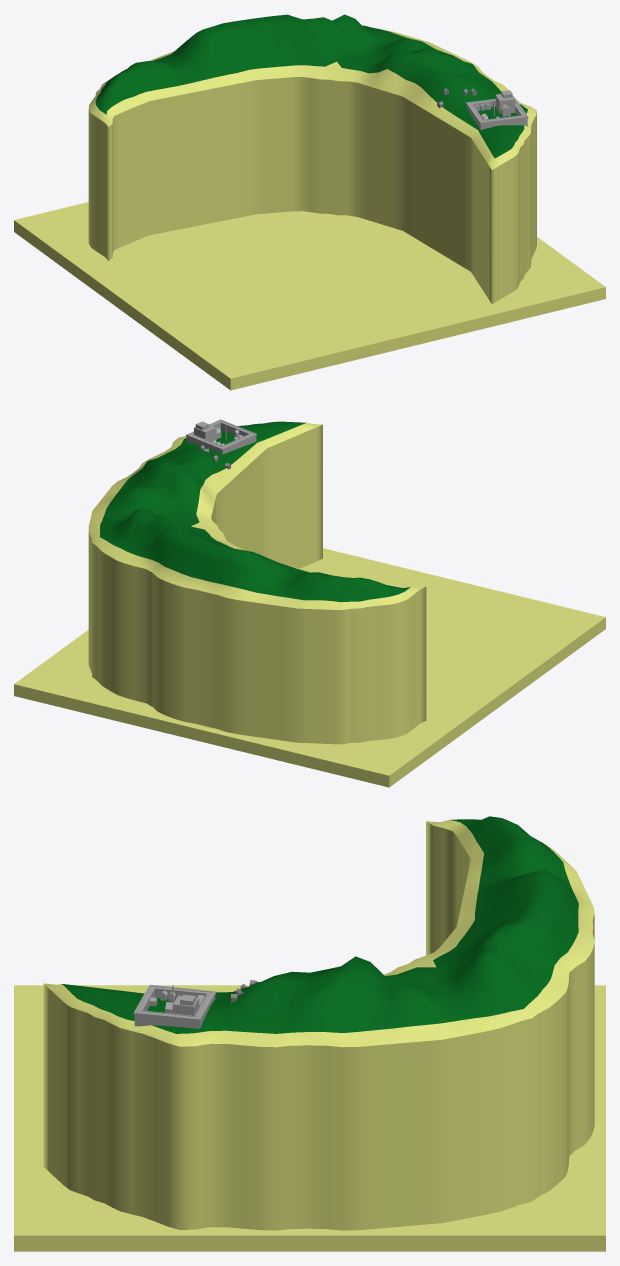
File: Quest_Big_Island_03.fbx
3 views of the same model, one above another, from view 1: azimuth 30°, elevation 25°; view 2: azimuth 150°, elevation 25°; view 3: azimuth 270°, elevation 25° (orthographic). The views are drawn at different scales.
Parts seen in each view (by area): view 1: Quest_Big_Island_03, Big_Quest_03; view 2: Quest_Big_Island_03, Big_Quest_03; view 3: Quest_Big_Island_03, Big_Quest_03.
Boxes of the visible parts, x1,y1,x2,y2 form: Quest_Big_Island_03: (14,14,605,390); Big_Quest_03: (437,88,528,129); Quest_Big_Island_03: (14,421,605,787); Big_Quest_03: (186,419,256,469); Quest_Big_Island_03: (14,816,605,1251); Big_Quest_03: (133,980,256,1028).
Bounding box in the file's own units: 136 × 61.78 × 136.
